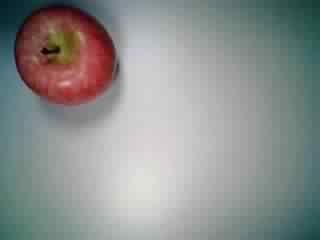apple: (11, 5, 118, 109)
